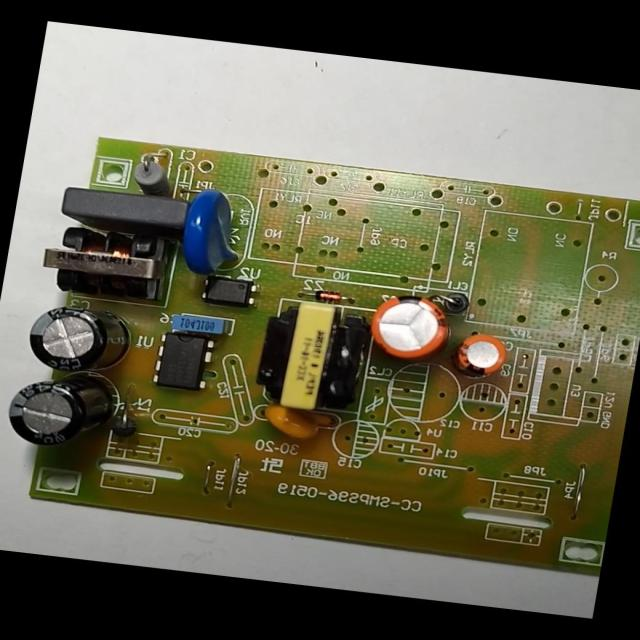Cap1: (364, 292, 454, 361)
Cap2: (452, 331, 509, 378)
Cap3: (24, 302, 136, 377)
Cap4: (3, 367, 118, 453)
MOSFET: (150, 330, 214, 390)
Mov: (177, 188, 250, 280)
Resistor: (128, 158, 179, 198)
Transformer: (250, 300, 374, 415), (34, 221, 175, 305)
